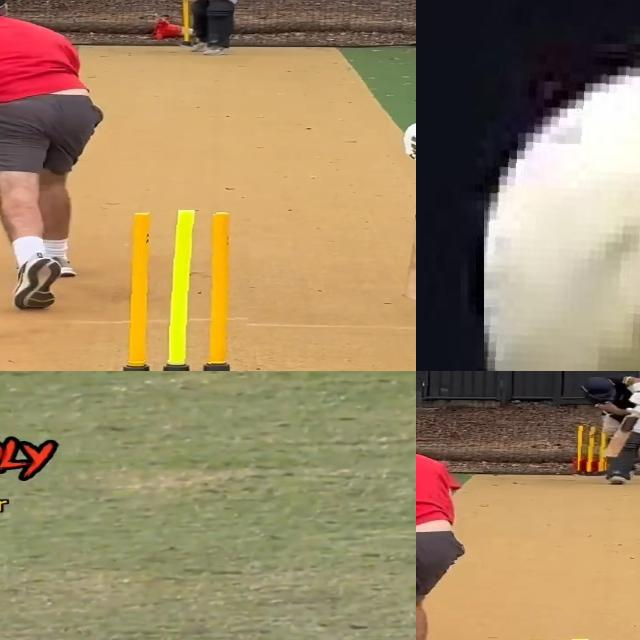Cricket ball: (484, 47, 640, 371)
Stumps: (114, 210, 250, 371), (578, 423, 608, 476)
